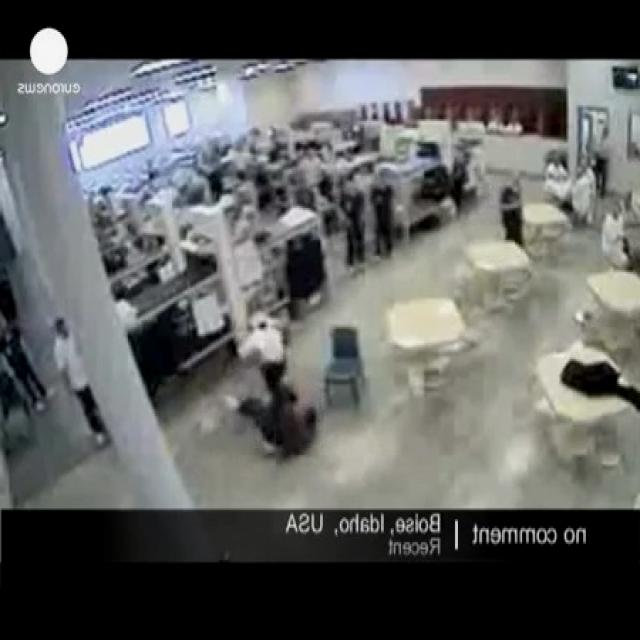fight: (225, 319, 316, 467)
